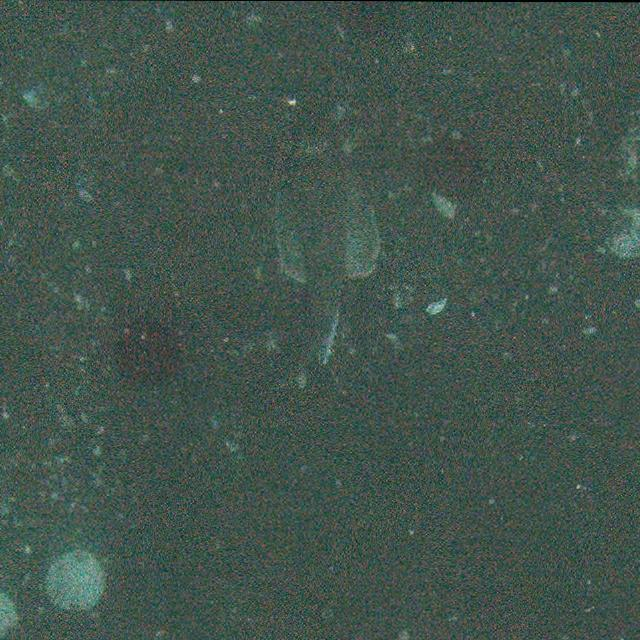roundfish: (265, 128, 378, 368)
